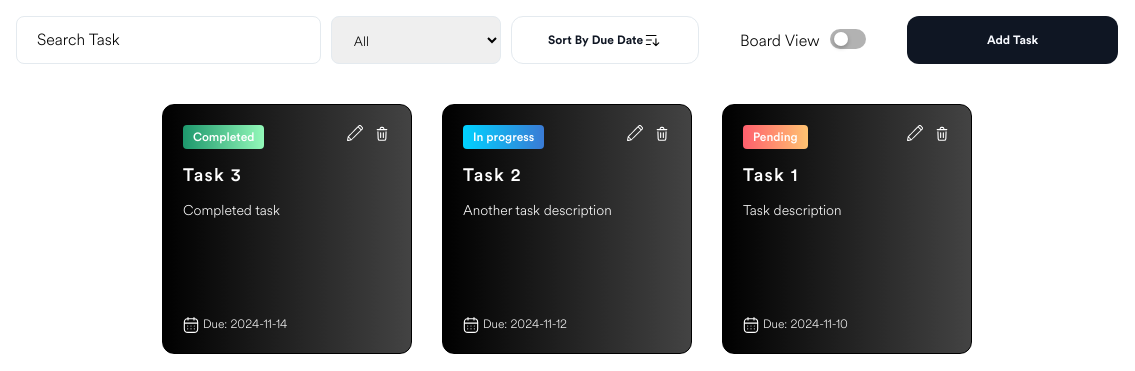
Test: Home Component › handles status filter change
Select "In-Progress" in the dropdown with test id "select-element": point(416, 40) top-left (331, 16), bottom-right (501, 64)
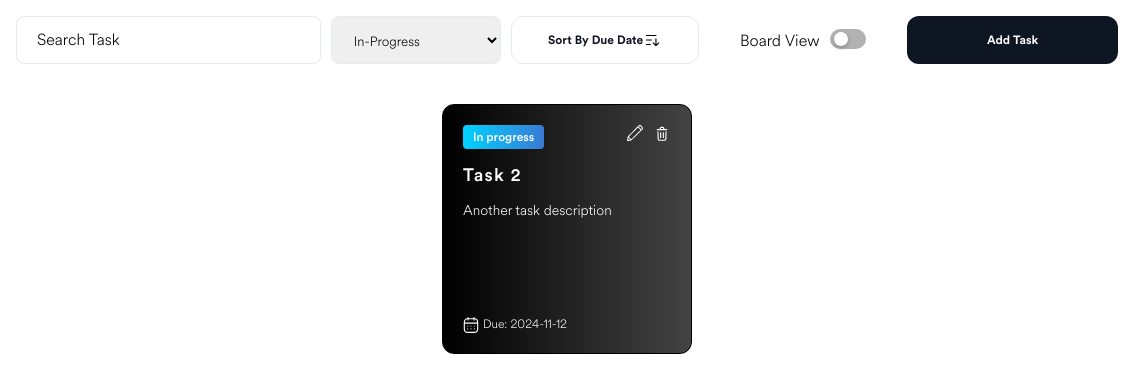
Expected: the text "Task 2" is shown, top-left (463, 166), bottom-right (522, 184)
Result: the text "Task 1" is gone
Result: the text "Task 3" is gone
